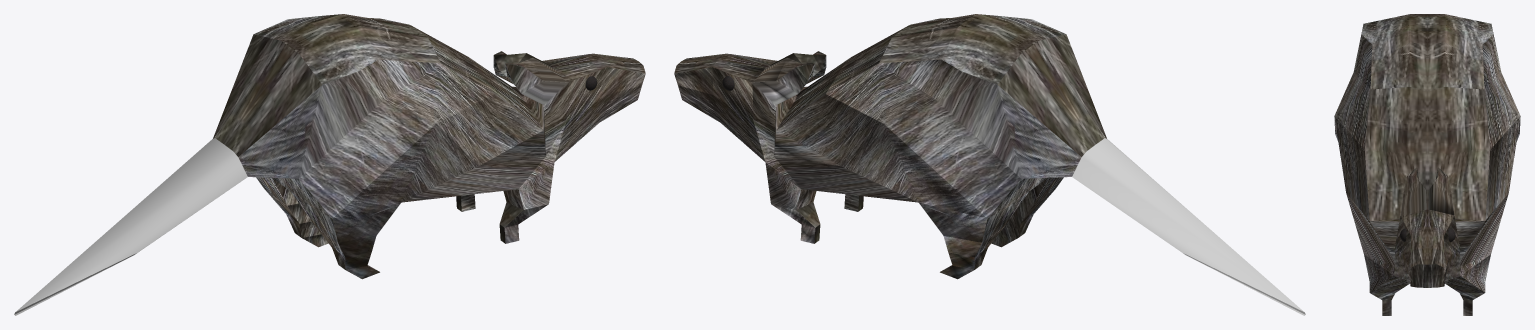
The model's file is rat.fbx.
3 views of the same model, side by side, from view 1: azimuth 30°, elevation 25°; view 2: azimuth 150°, elevation 25°; view 3: azimuth 270°, elevation 25° (orthographic). The views are drawn at different scales.
Visible parts, largest first — view 1: Plane; view 2: Plane; view 3: Plane.
Part boxes in pixels (x1,y1,x2,y2): Plane: [14, 14, 645, 315]; Plane: [674, 14, 1305, 315]; Plane: [1334, 14, 1520, 315].
Bounding box in the file's own units: 652 × 236 × 181.
